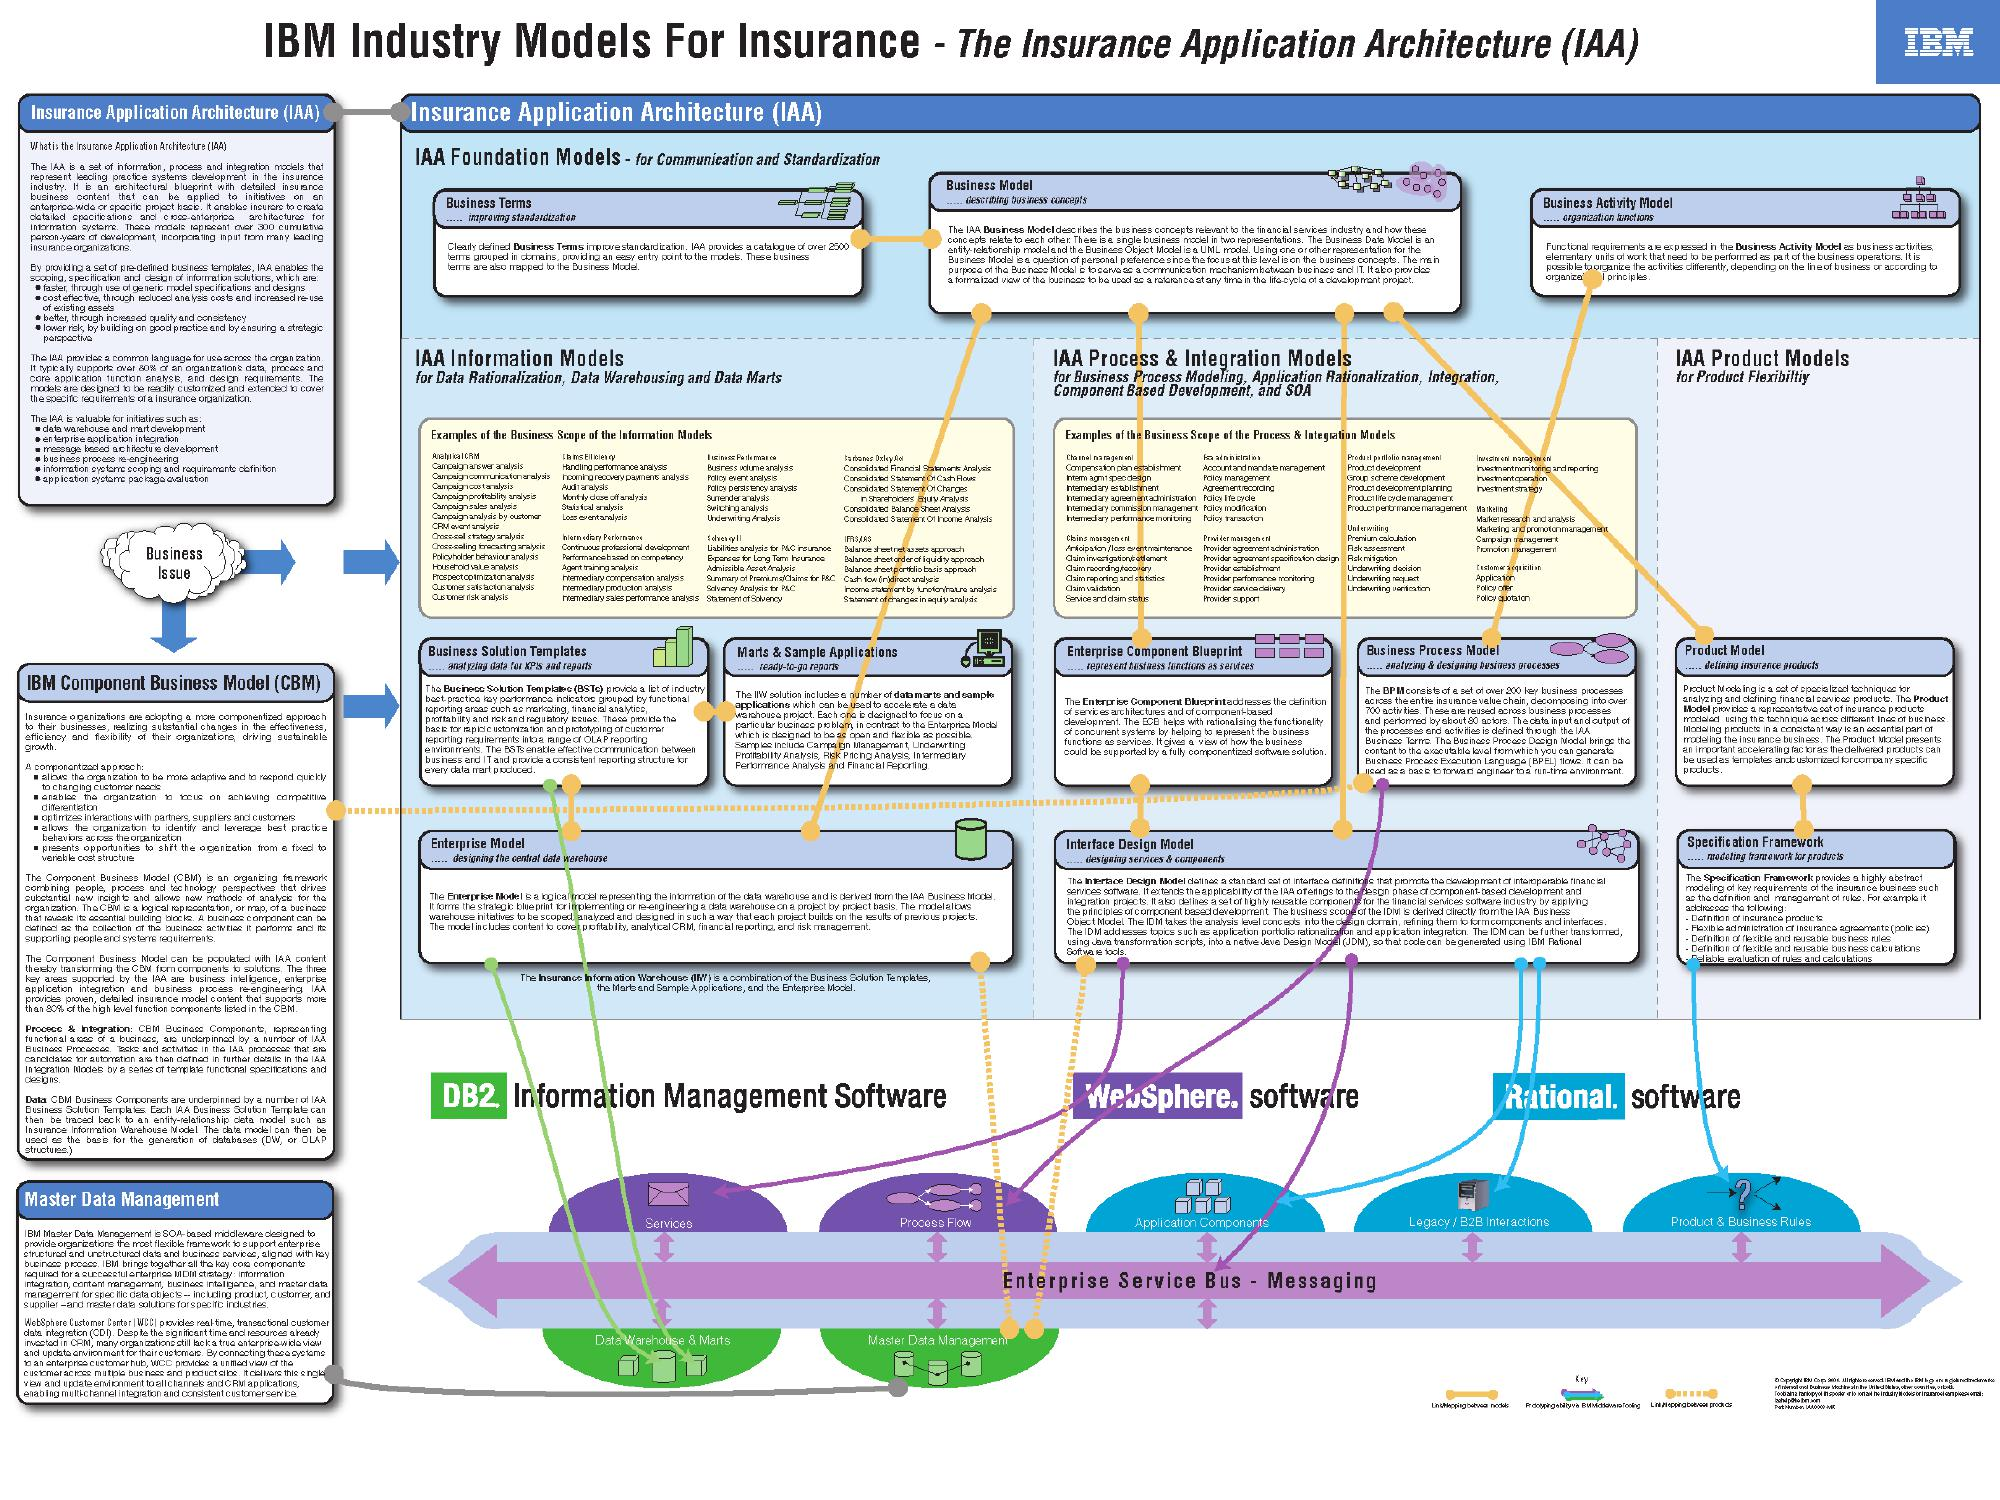Title: (250, 13, 1649, 87)
